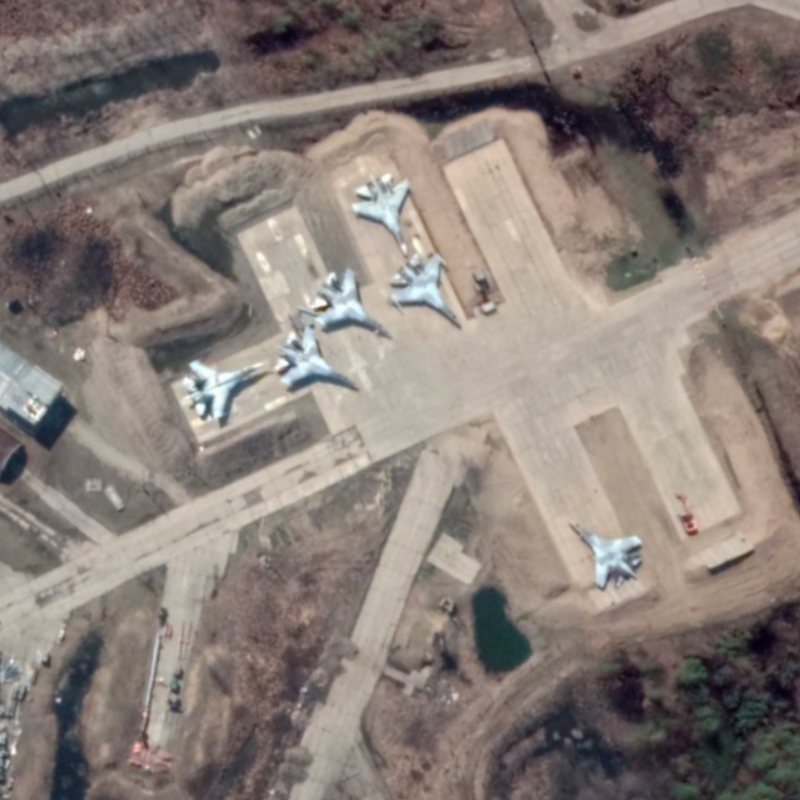A1: (308, 265, 394, 341), (387, 249, 465, 329), (272, 324, 363, 392), (565, 517, 644, 591), (178, 357, 265, 422), (349, 171, 412, 258)
